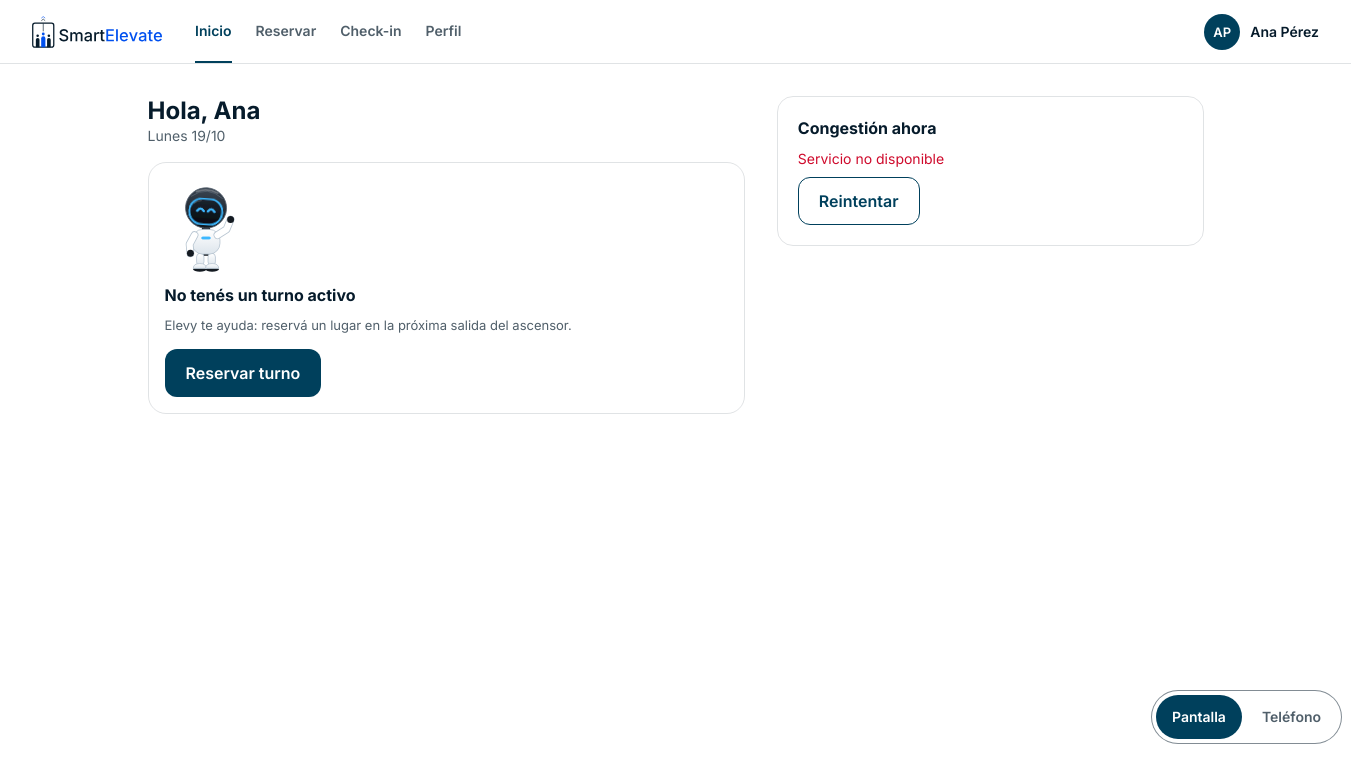
Test case: HomePage › si falla la congestión muestra el error y permite reintentar
Expected: the message shows "Servicio no disponible", [798, 150, 944, 167]
Click the button "Reintentar".
click(859, 201)  # box [798, 177, 920, 225]
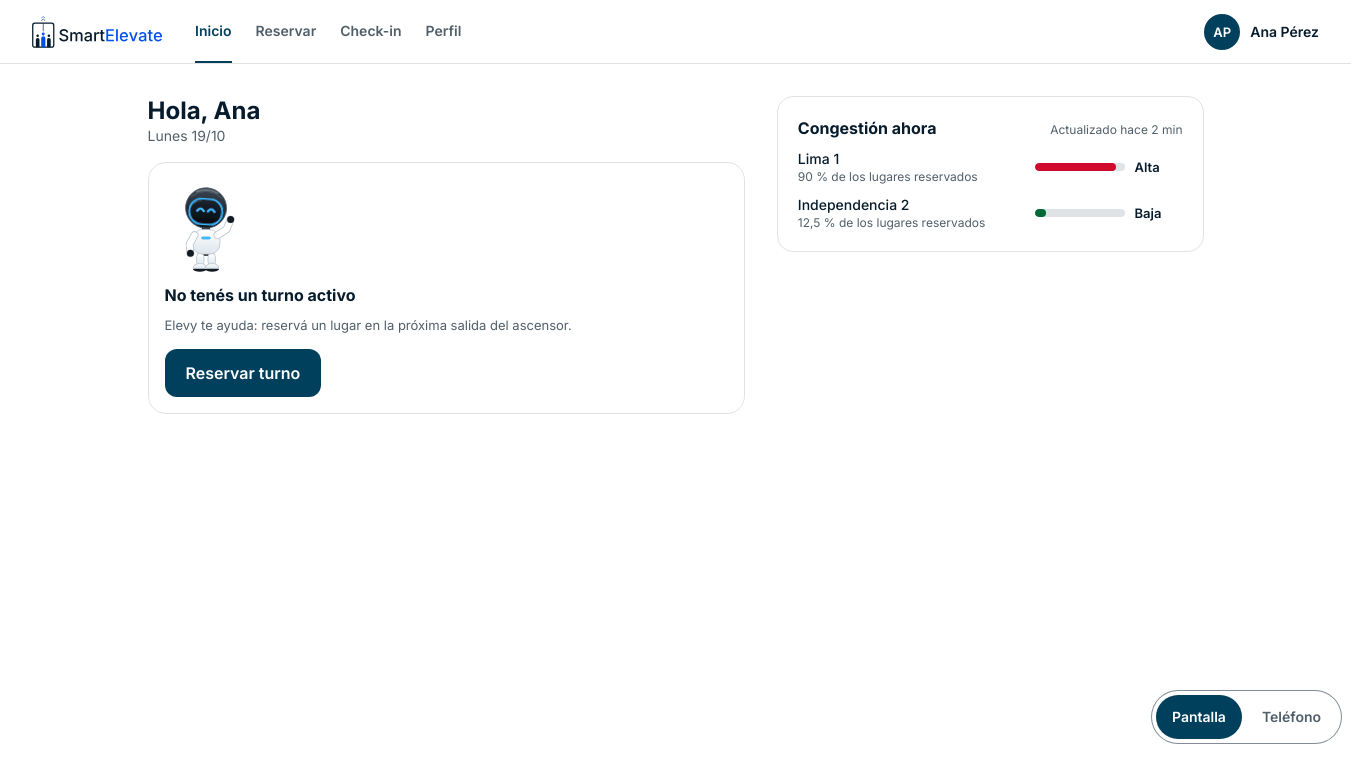
Expected: the text "Independencia 2" is shown, [798, 196, 909, 213]
Expected: the message "Servicio no disponible Reintentar" is gone
